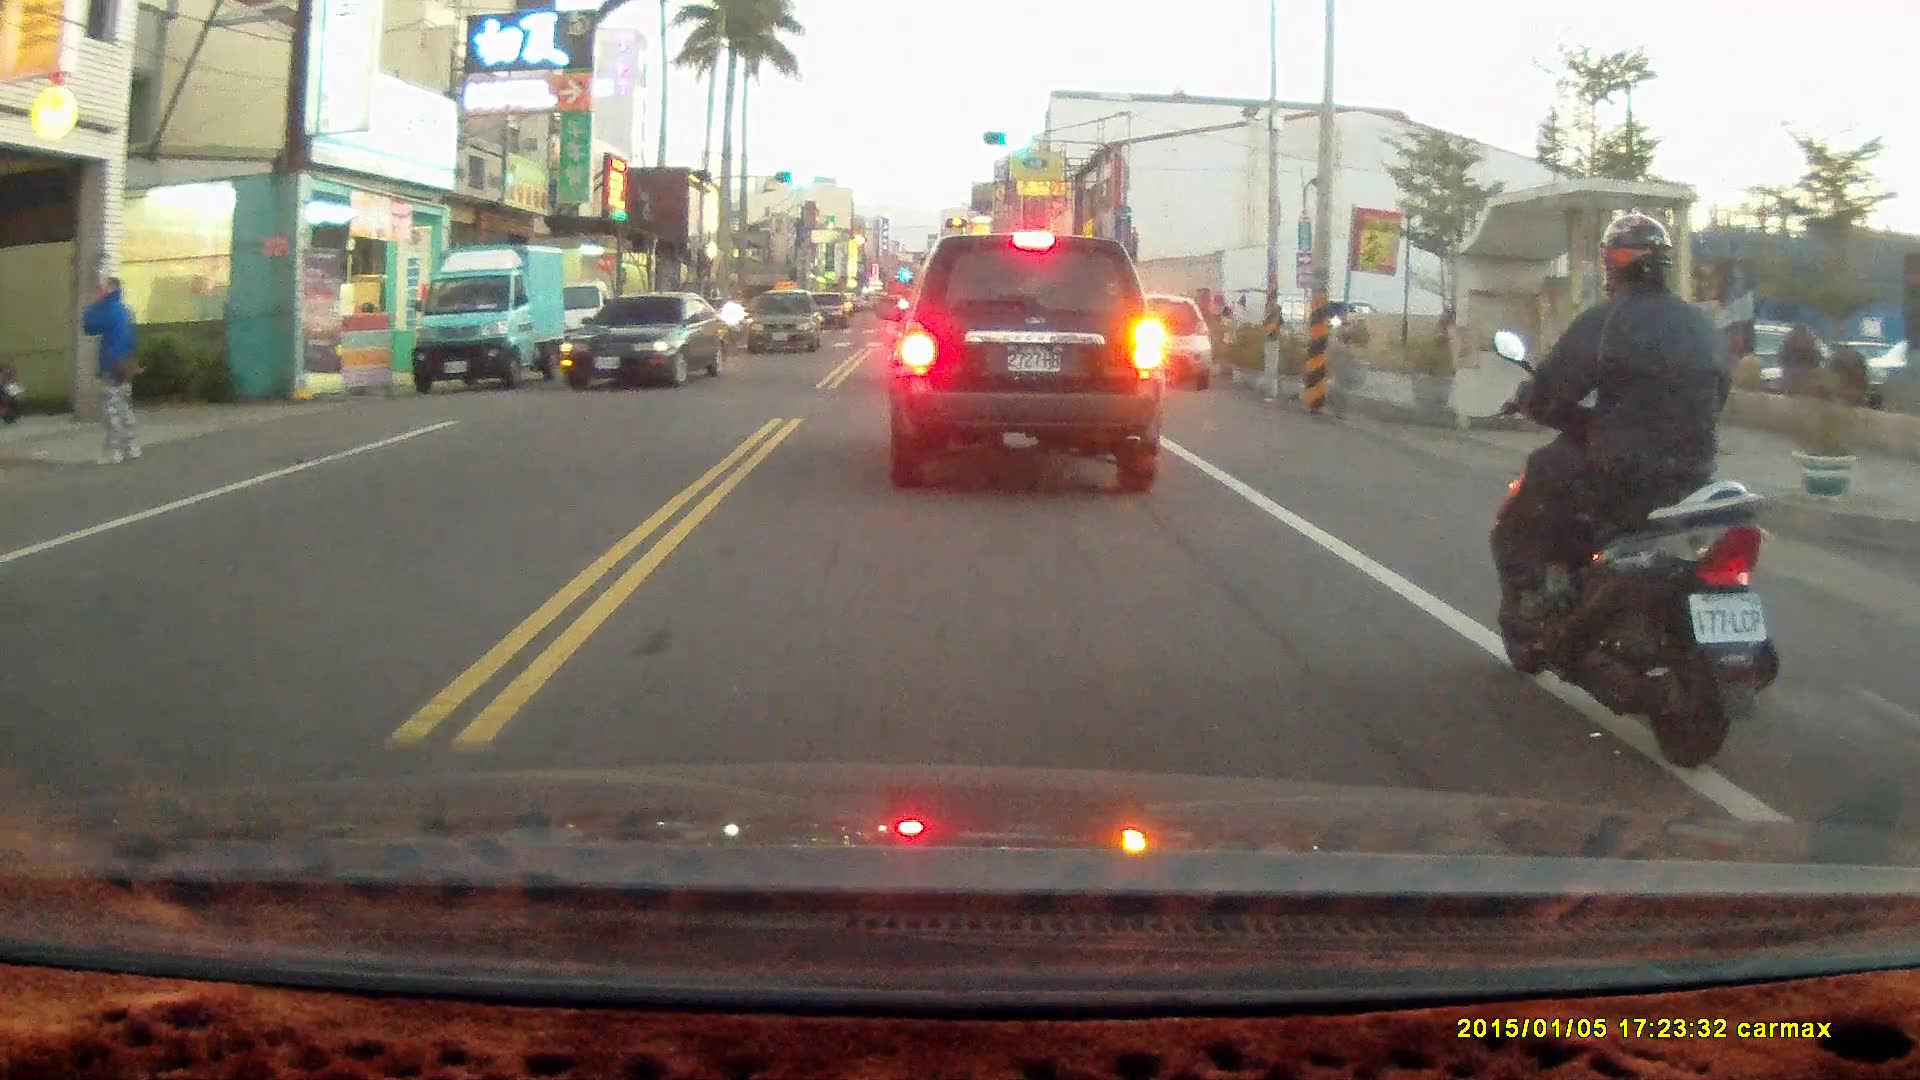pedestrian: (80, 273, 144, 461)
rider: (1486, 210, 1779, 770), (722, 286, 749, 345)
vehicle: (882, 231, 1166, 496), (411, 249, 561, 400), (562, 290, 743, 389), (1106, 293, 1216, 393), (746, 291, 823, 357)
